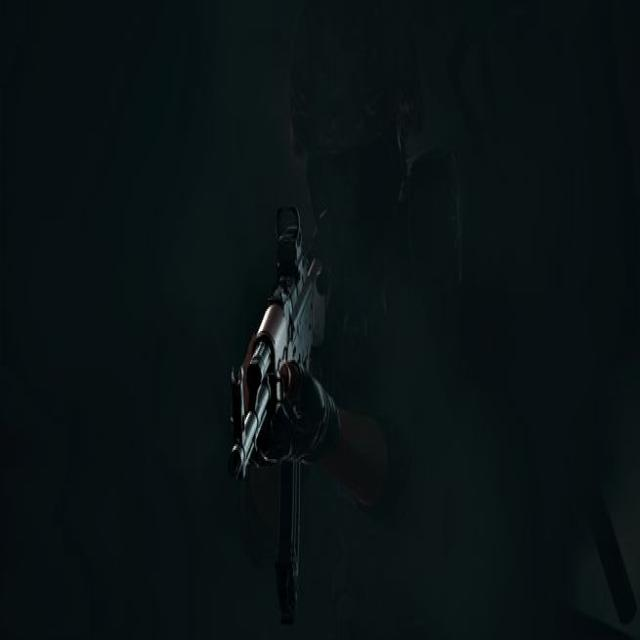firearm: (226, 202, 324, 626)
